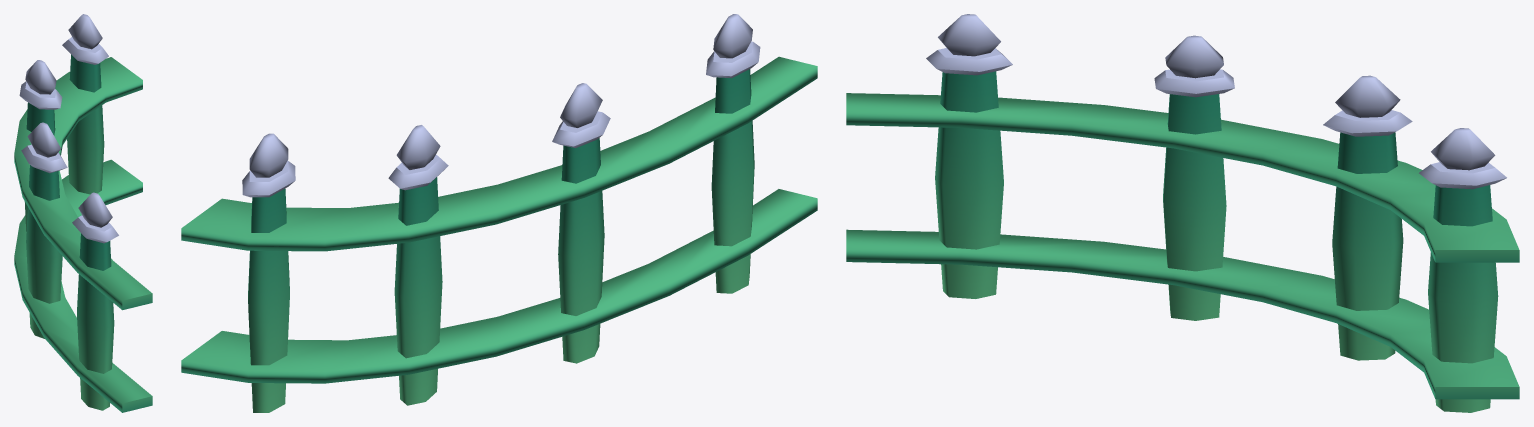
Rendered from iron-fence-curve_lev1.glb.
The picture shows the model from 3 angles, left to right: view 1: azimuth 30°, elevation 25°; view 2: azimuth 150°, elevation 25°; view 3: azimuth 270°, elevation 25°; orthographic projection. The views are drawn at different scales.
Visible parts, largest first — view 1: iron-fence-curve_lev1; view 2: iron-fence-curve_lev1; view 3: iron-fence-curve_lev1.
Boxes of the visible parts, x1,y1,x2,y2 form: iron-fence-curve_lev1: [14, 14, 152, 412]; iron-fence-curve_lev1: [181, 14, 817, 412]; iron-fence-curve_lev1: [846, 14, 1519, 412].
Bounding box in the file's own units: 1.44 × 1.19 × 2.61.
1 material, 1 textured.
